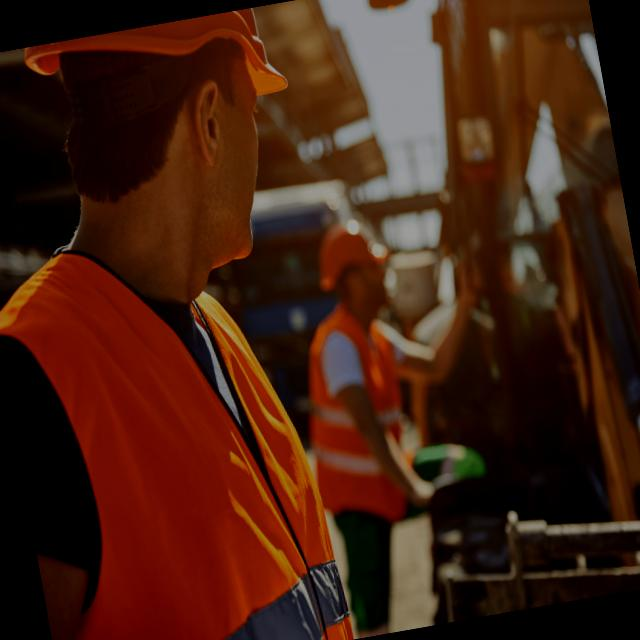helmet: (14, 3, 293, 140)
no-goggles: (210, 64, 274, 152)
vest: (0, 201, 365, 640)
